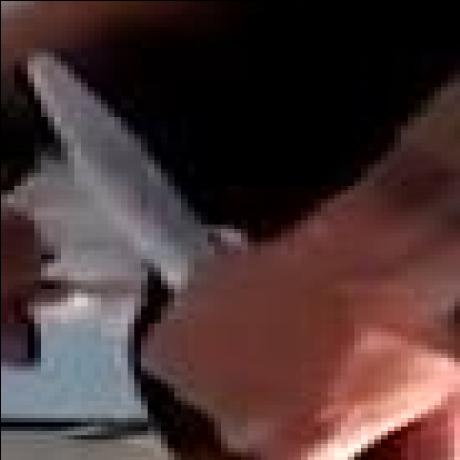weapon: (21, 48, 211, 279)
